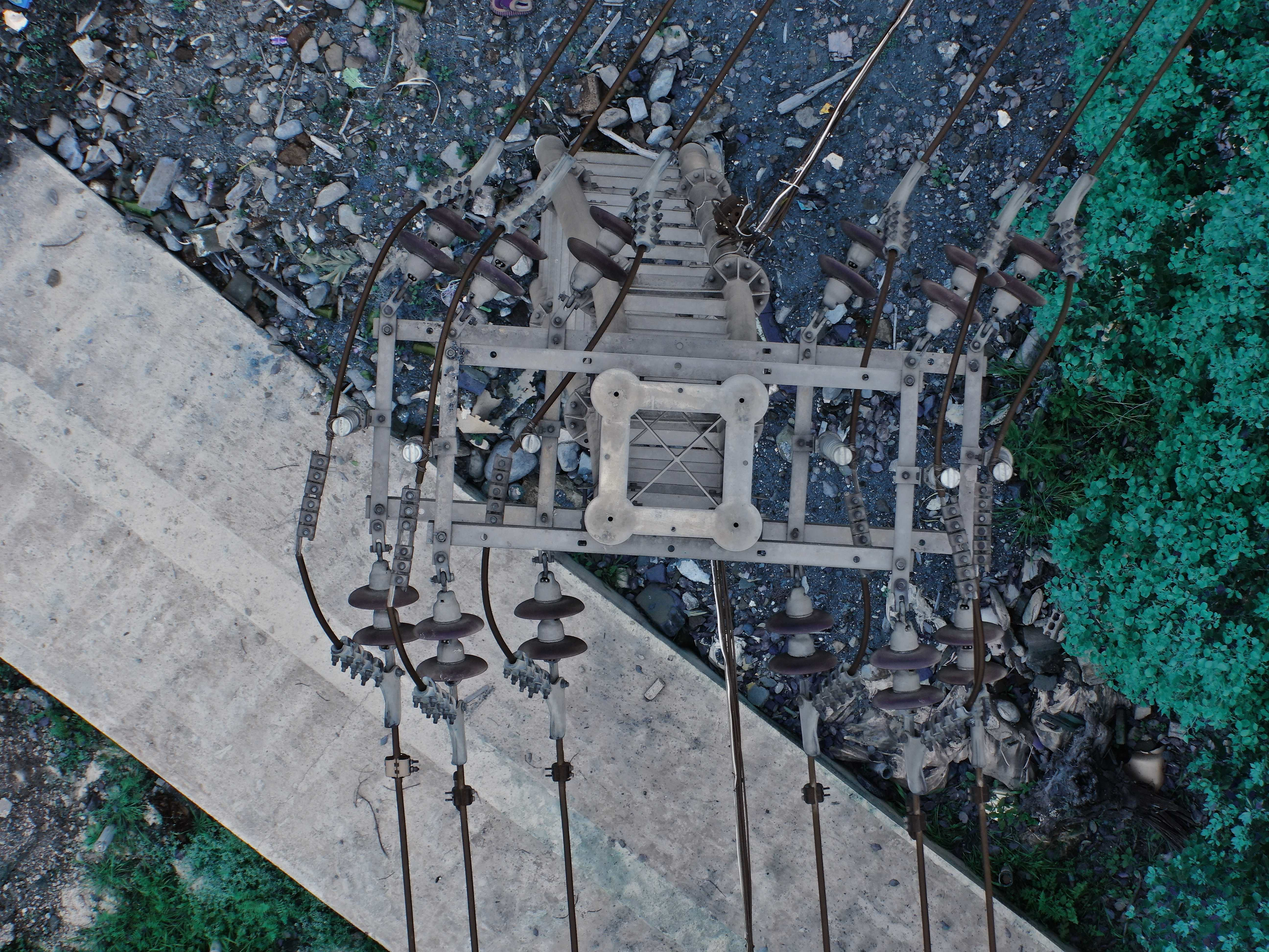severe_soiling_no_discharge_whole: (384, 543, 395, 555)
